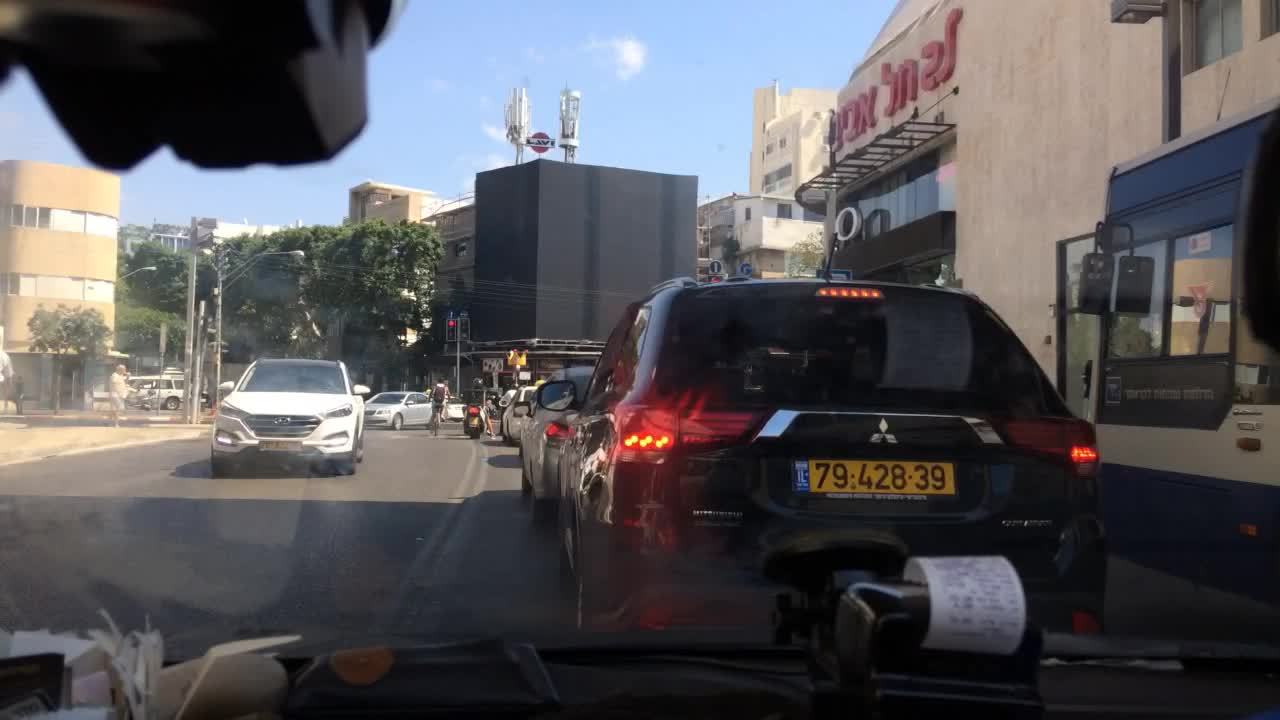bike: (430, 402, 444, 436)
bus: (1053, 102, 1279, 594)
car: (560, 273, 1110, 658), (208, 357, 372, 475), (518, 365, 601, 522), (499, 379, 547, 443), (362, 390, 438, 429), (124, 374, 190, 408), (187, 372, 212, 408), (443, 395, 465, 421)
motor: (462, 404, 488, 439)
person: (106, 363, 130, 427), (12, 374, 27, 413)
rider: (463, 376, 495, 439), (426, 376, 450, 423), (499, 382, 522, 430)
traffic light: (459, 320, 471, 343), (445, 320, 459, 339), (708, 278, 727, 283)
traffic sign: (482, 357, 503, 373), (709, 259, 722, 276), (736, 261, 754, 273), (160, 321, 166, 353), (459, 304, 468, 319), (445, 308, 456, 318)
